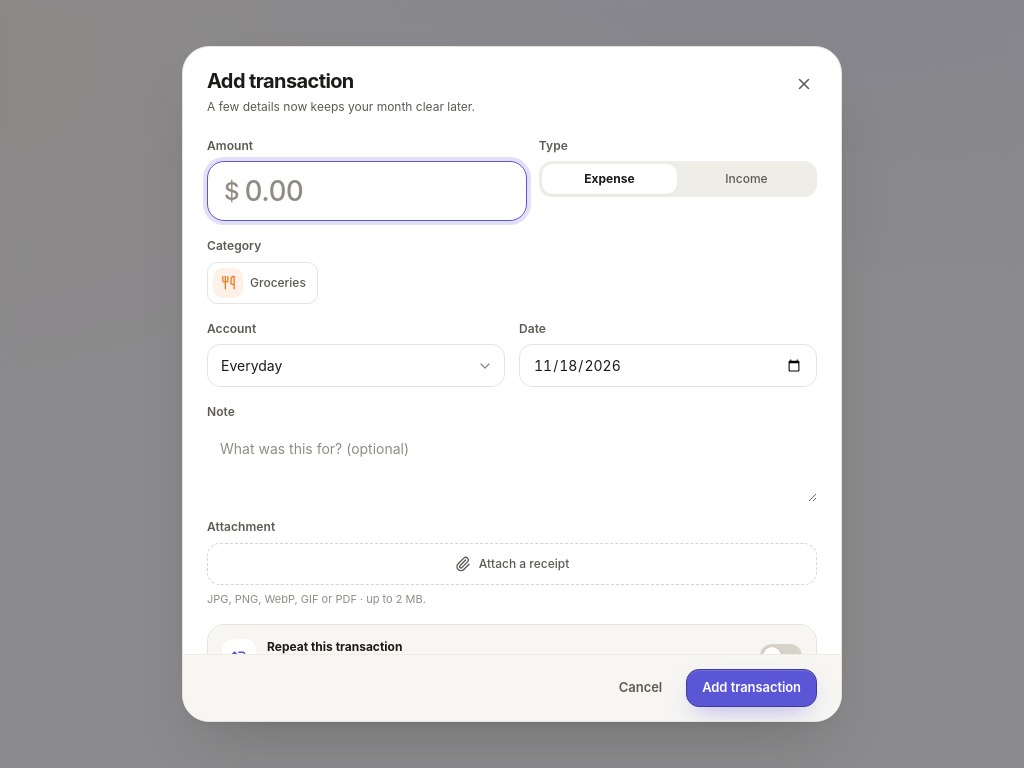
it: TransactionFormModal › renders the add-transaction form with account and category choices
Expected: the dialog "Add transaction" is shown, [182,46,842,722]
Expected: the field named "Amount in USD" is shown, [242,162,510,220]
What coordinates should you click on to do the following:
click the button "Income"
I would click on:
 (746, 179)
Its box is [679,164,814,194].
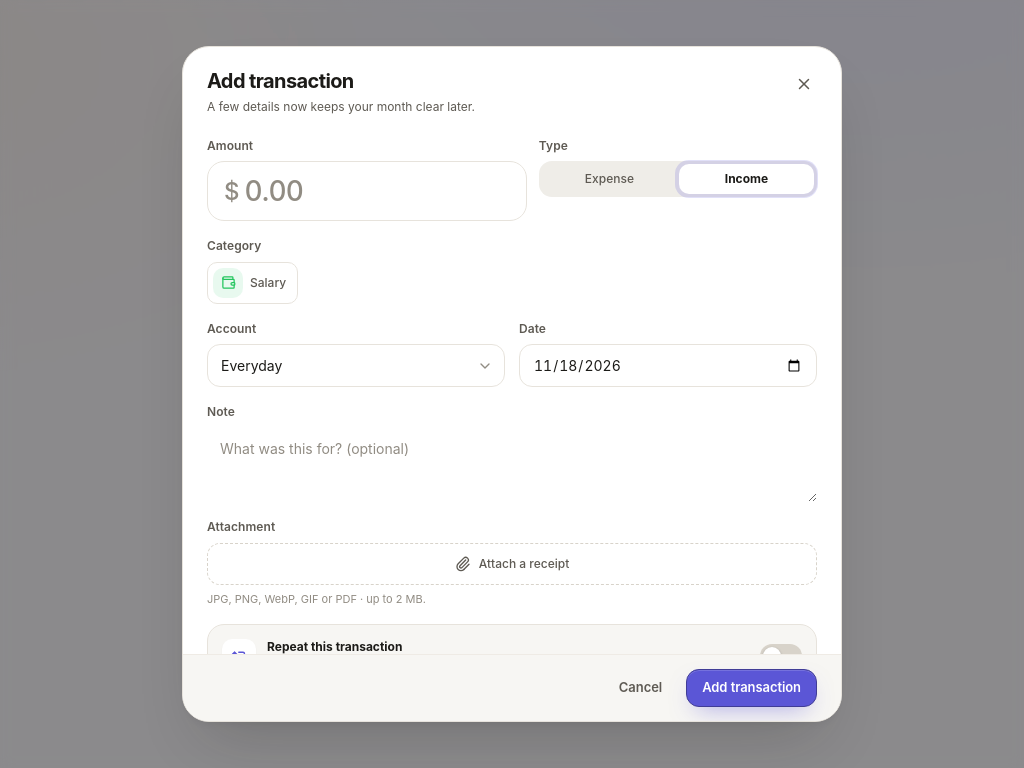
Now the radio button labelled "Salary" is shown, box [207,262,298,304]
Now the radio button labelled "Groceries" is gone
